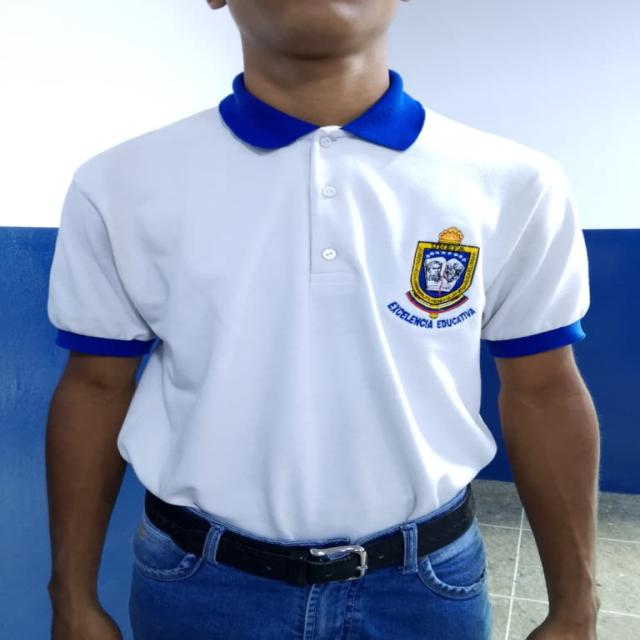uniforme_superior: (46, 67, 588, 540)
